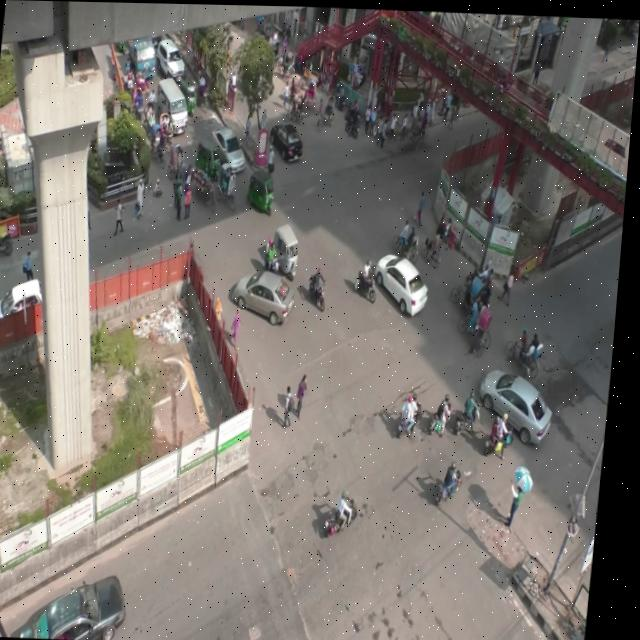cng: (247, 162, 281, 217), (275, 221, 306, 276), (194, 133, 226, 180), (175, 76, 200, 117)
rikshaw: (509, 325, 557, 373), (462, 298, 500, 351), (215, 154, 247, 212), (454, 271, 494, 315), (393, 220, 426, 264), (148, 122, 171, 171), (168, 139, 192, 184), (316, 92, 339, 132), (283, 90, 310, 122), (156, 111, 178, 149), (293, 57, 318, 87), (143, 97, 163, 133), (280, 70, 304, 99), (303, 73, 320, 112), (276, 48, 295, 80), (131, 85, 146, 125)
